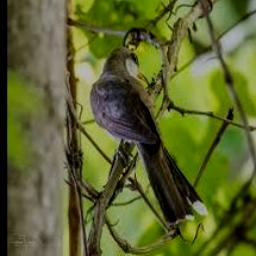Cuckoo: (89, 47, 210, 227)
